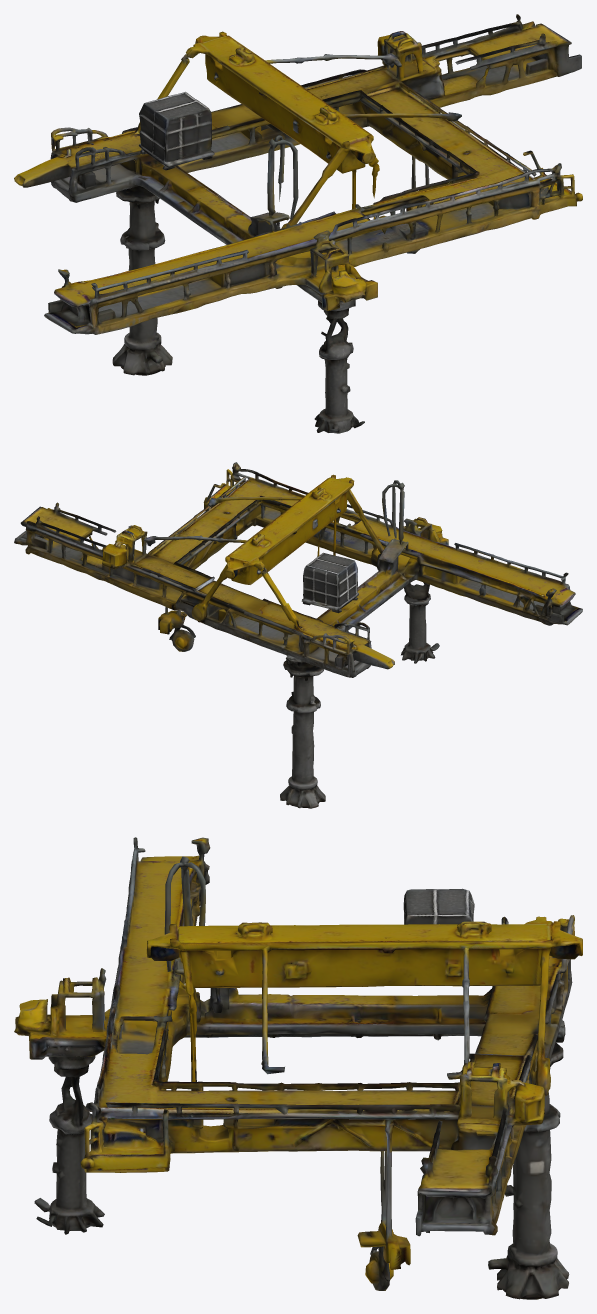
Rendered from Kranbahn.glb.
The picture shows the model from 3 angles, top to bottom: view 1: azimuth 30°, elevation 25°; view 2: azimuth 150°, elevation 25°; view 3: azimuth 270°, elevation 25°; orthographic projection. The views are drawn at different scales.
Parts seen in each view (by area): view 1: tripo_node_2a88fcca-b7b7-4c6f-934b-6d78a63bffd1; view 2: tripo_node_2a88fcca-b7b7-4c6f-934b-6d78a63bffd1; view 3: tripo_node_2a88fcca-b7b7-4c6f-934b-6d78a63bffd1.
Part boxes in pixels (box(x1,y1,x2,y2)): tripo_node_2a88fcca-b7b7-4c6f-934b-6d78a63bffd1: box(14, 14, 582, 433); tripo_node_2a88fcca-b7b7-4c6f-934b-6d78a63bffd1: box(14, 462, 582, 808); tripo_node_2a88fcca-b7b7-4c6f-934b-6d78a63bffd1: box(14, 837, 582, 1299).
Size of the model in its own units: 1 by 0.4986 by 0.5939.
Materials: 1 (1 with a texture image).
